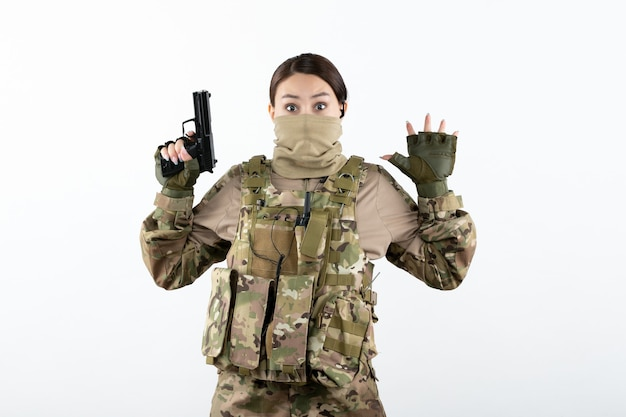gun: (160, 89, 218, 173)
